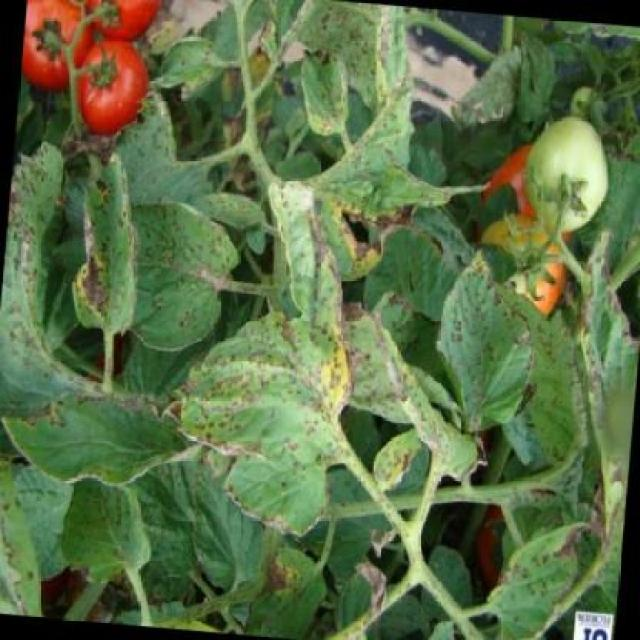Tomato leaf bacterial spot: (171, 184, 398, 550), (97, 189, 257, 366), (320, 6, 438, 243), (420, 235, 543, 456), (0, 377, 208, 497), (66, 140, 166, 348), (296, 40, 362, 138)
